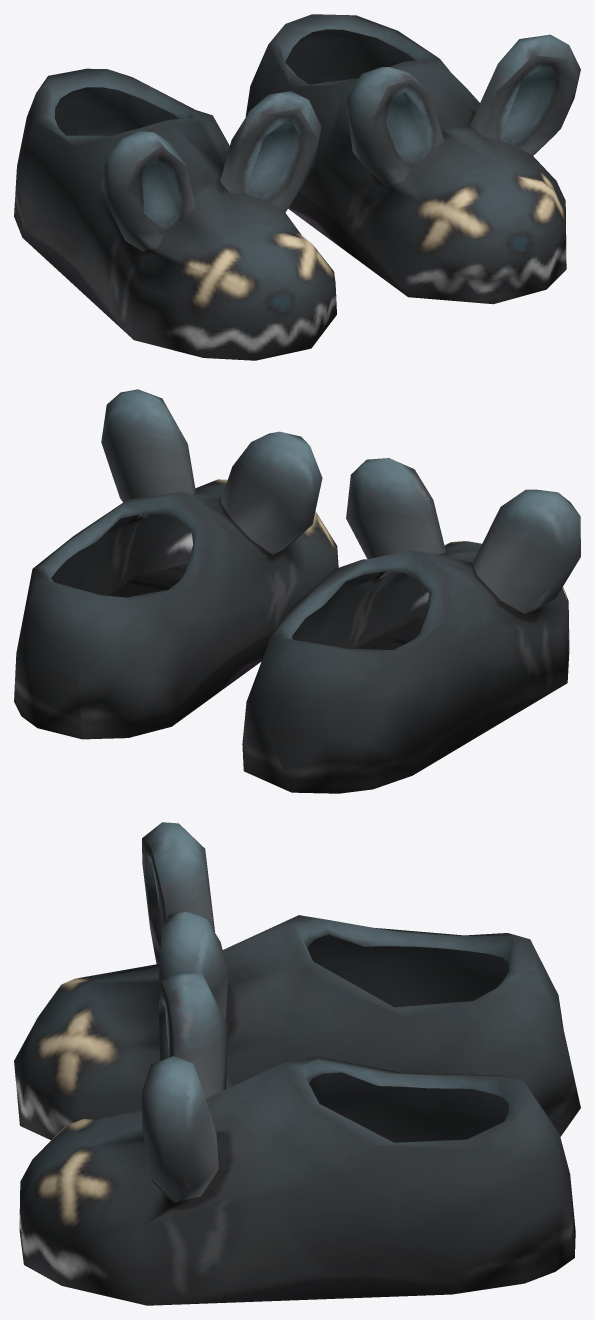
File: SlippersBunny_Ground.fbx
3 renders of one model, top to bottom at view 1: azimuth 30°, elevation 25°; view 2: azimuth 150°, elevation 25°; view 3: azimuth 270°, elevation 25°, orthographic. The views are drawn at different scales.
Parts seen in each view (by area): view 1: 24_Body_0.2_16_16; view 2: 24_Body_0.2_16_16; view 3: 24_Body_0.2_16_16.
Part boxes in pixels (<box>): 24_Body_0.2_16_16: <box>14,14,580,360</box>; 24_Body_0.2_16_16: <box>14,389,580,793</box>; 24_Body_0.2_16_16: <box>14,822,580,1305</box>.
Bounding box in the file's own units: 0.2183 × 0.0864 × 0.1887.
